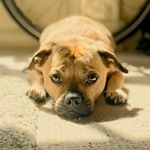puppy: (24, 12, 134, 121)
